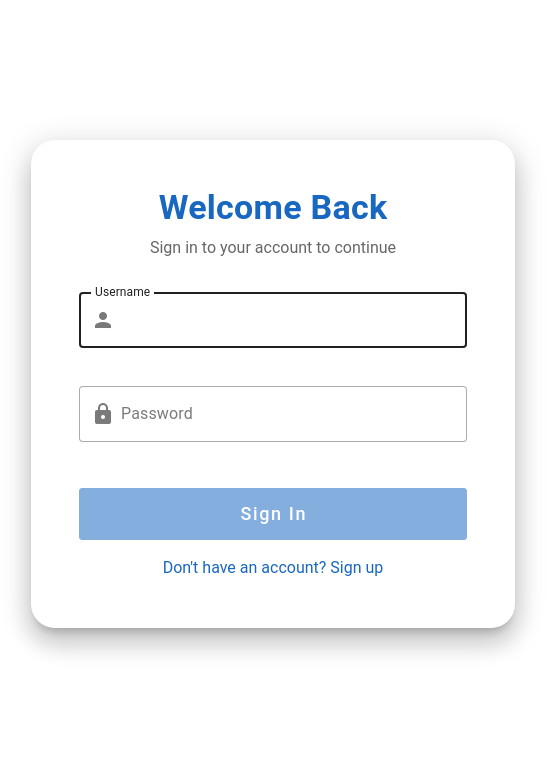
Test case: Authentication › Login Page › should toggle to register page
What coordinates should you click on to do the following:
click the link "Don't have an account? Sign up"
I would click on:
 (274, 568)
Its box is x1=163 y1=558 x2=384 y2=577.
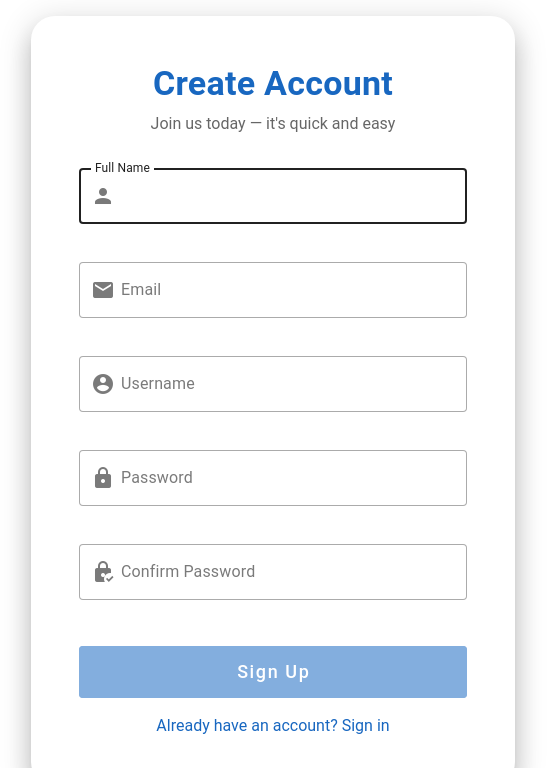
Expected: the heading "Create Account" is shown, x1=153 y1=63 x2=393 y2=103
